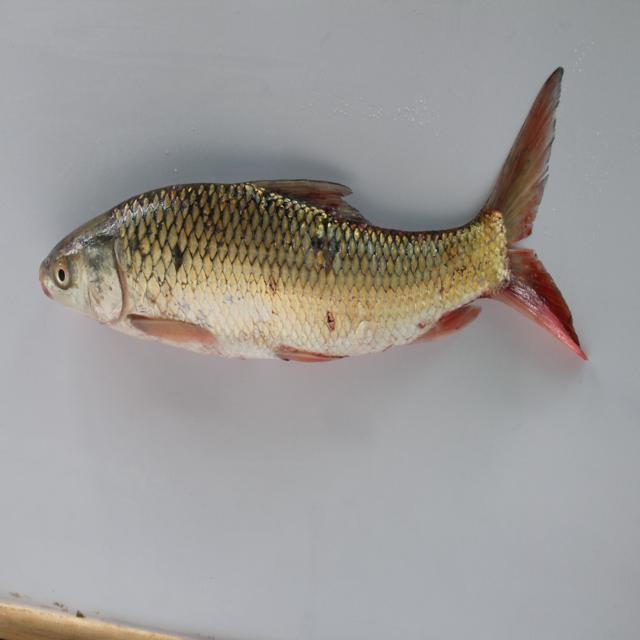Mori: (30, 69, 603, 406)
